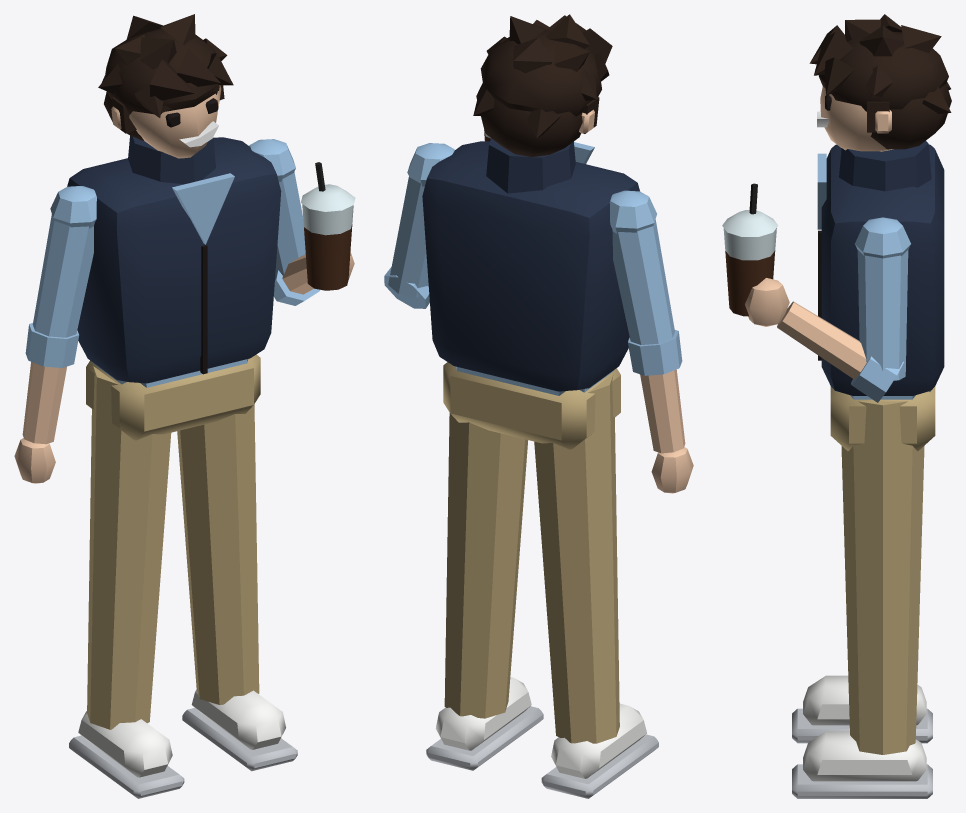
The model's file is techbro.glb.
3 views of the same model, side by side, from view 1: azimuth 30°, elevation 25°; view 2: azimuth 150°, elevation 25°; view 3: azimuth 270°, elevation 25° (orthographic).
Visible parts, largest first — view 1: legs, torso, head, arm_L, cup, arm_R; view 2: legs, torso, head, arm_L, arm_R; view 3: legs, torso, head, arm_R, cup.
Boxes of the visible parts, x1,y1,x2,y2 form: legs: (69,354,297,798); torso: (67,135,281,387); head: (98,14,233,158); arm_L: (14,186,96,483); cup: (301,162,355,290); arm_R: (249,139,354,305); legs: (426,362,658,798); torso: (422,138,639,395); head: (473,14,612,156); arm_L: (609,190,693,493); arm_R: (384,143,454,308); legs: (792,386,935,798); torso: (817,141,944,399); head: (809,14,951,151); arm_R: (745,217,910,402); cup: (722,183,778,316).
Bounding box in the file's own units: 0.7653 × 1.78 × 0.5056.
